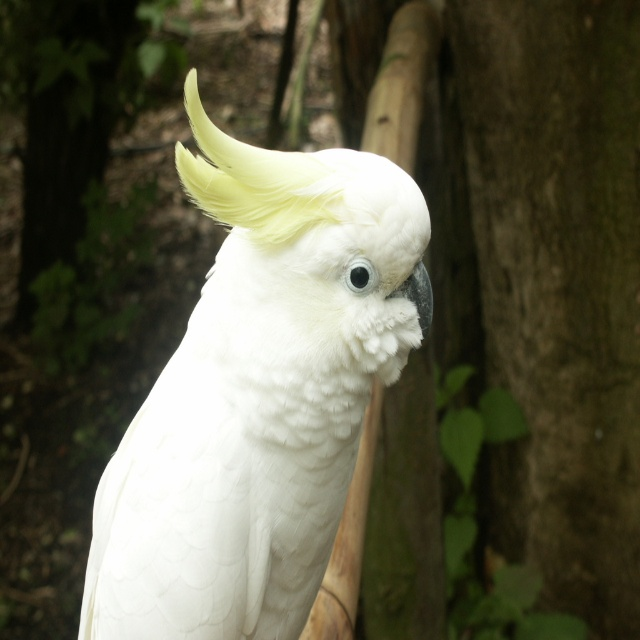Parrot: (78, 67, 434, 638)
